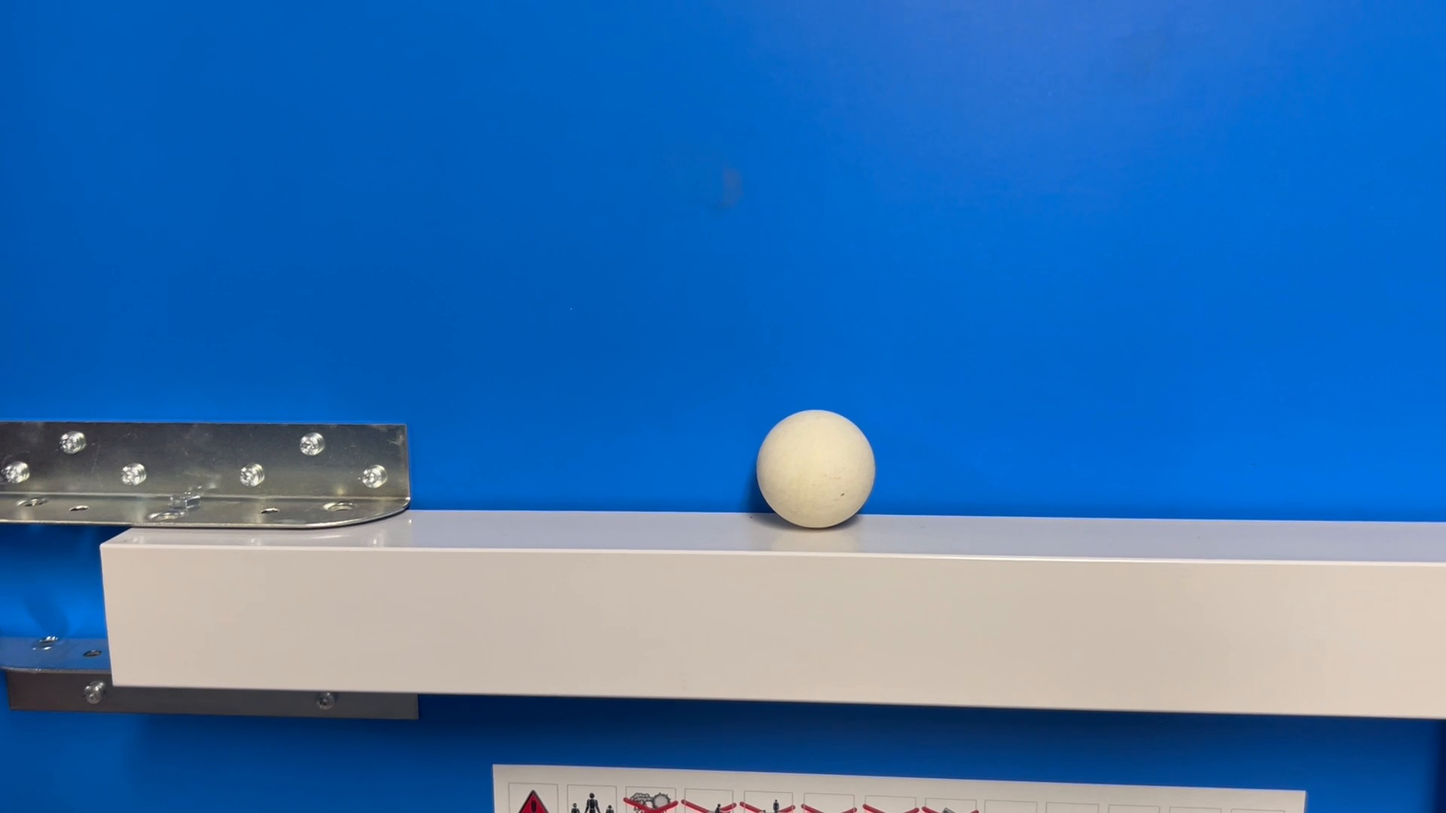Ball: (731, 410, 895, 530)
